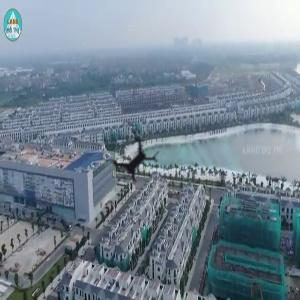drone: (85, 111, 183, 209)
